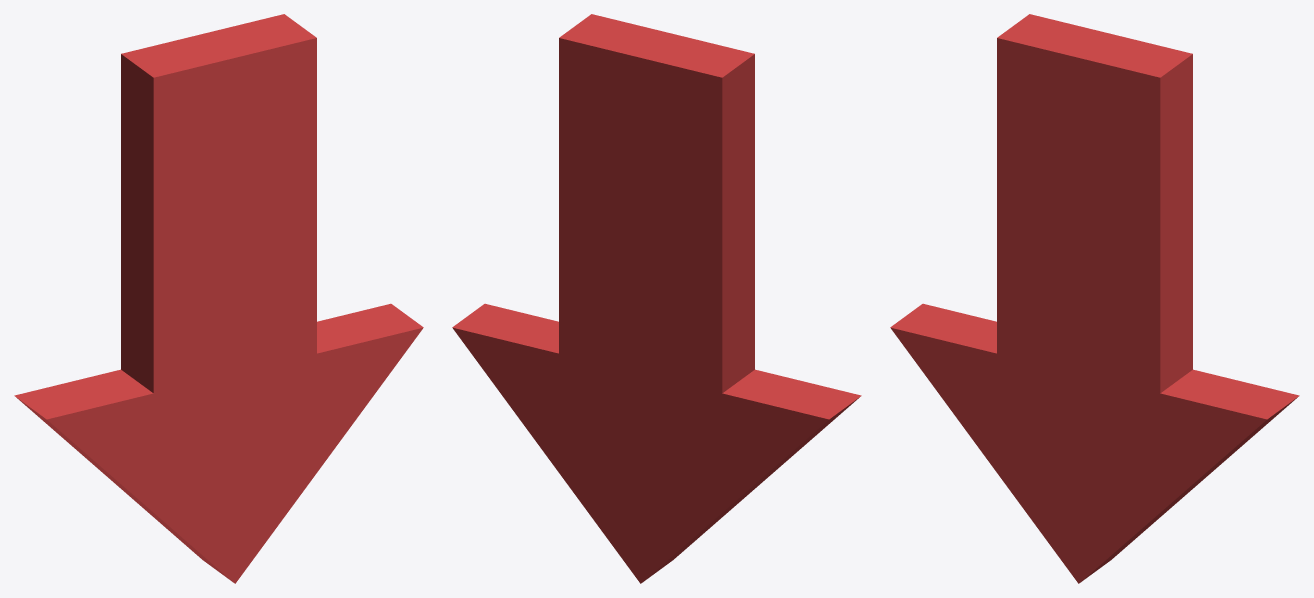
File: 07-fleche.glb
The picture shows the model from 3 angles, left to right: view 1: azimuth 30°, elevation 25°; view 2: azimuth 150°, elevation 25°; view 3: azimuth 330°, elevation 25°; orthographic projection.
Visible parts, largest first — view 1: fleche; view 2: fleche; view 3: fleche.
Boxes of the visible parts, box(x1,y1,x2,y2) form: fleche: box(14, 14, 423, 583); fleche: box(452, 14, 861, 583); fleche: box(890, 14, 1299, 583).
Size of the model in its own units: 0.6 by 0.8 by 0.09.
